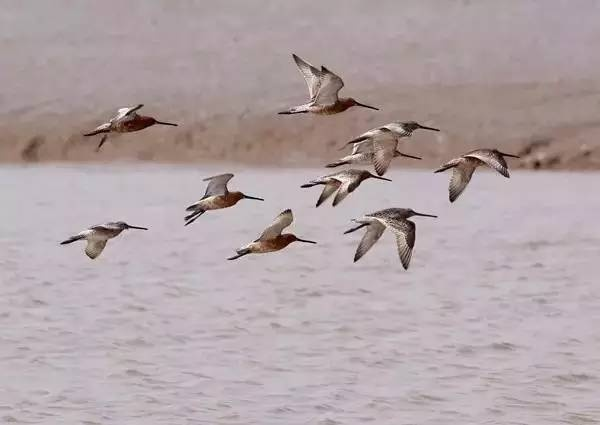bird: (267, 52, 379, 114), (338, 203, 443, 265), (172, 165, 266, 225), (428, 147, 523, 201), (222, 209, 317, 262), (300, 165, 394, 208), (56, 221, 151, 262), (83, 104, 178, 145), (347, 116, 443, 153), (327, 136, 421, 172)
